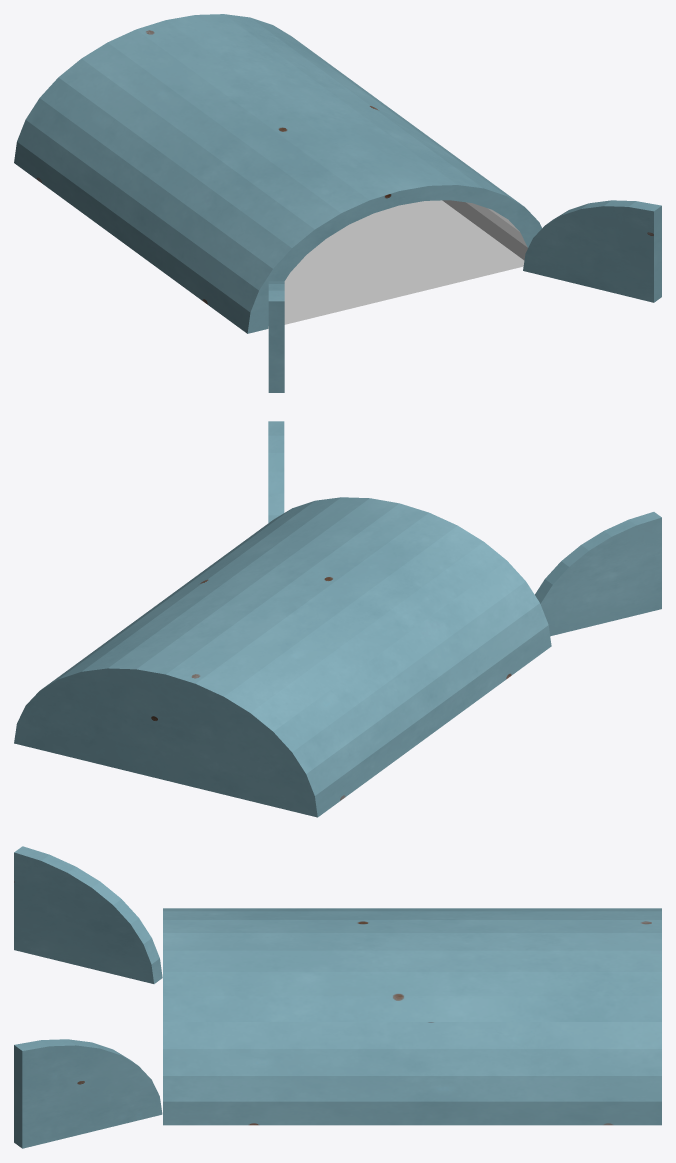
Rendered from hangar.fbx.
The picture shows the model from 3 angles, top to bottom: view 1: azimuth 30°, elevation 25°; view 2: azimuth 150°, elevation 25°; view 3: azimuth 270°, elevation 25°; orthographic projection. The views are drawn at different scales.
Visible parts, largest first — view 1: Cylinder; view 2: Cylinder; view 3: Cylinder.
Part boxes in pixels (bbox=[...]): Cylinder: bbox=[14, 14, 661, 392]; Cylinder: bbox=[14, 421, 661, 817]; Cylinder: bbox=[14, 846, 661, 1148].
Size of the model in its own units: 389 by 100 by 520.
